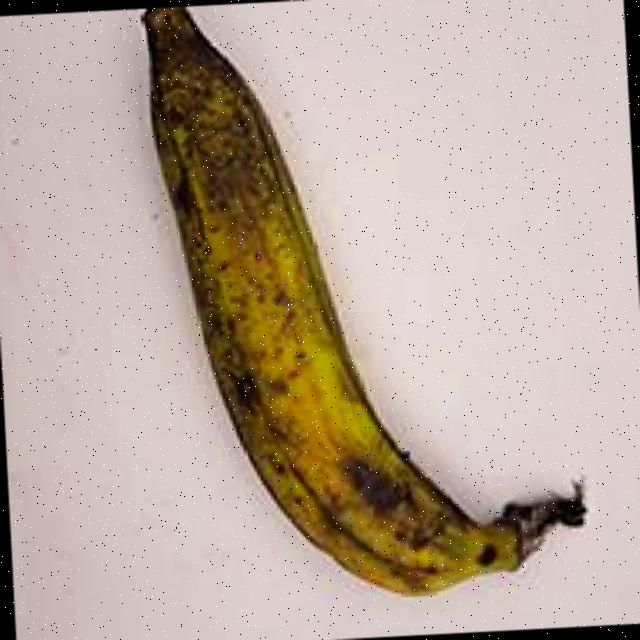Overripe: (70, 0, 606, 636)
